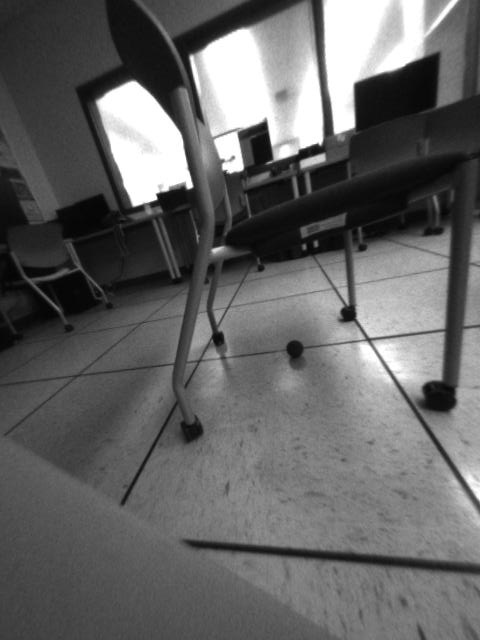dogtoy: (279, 335, 311, 363)
